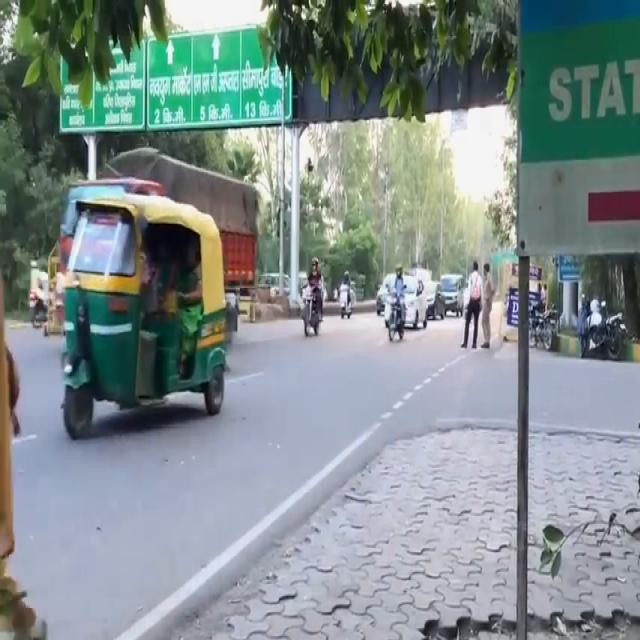MOTORCYCLE: (300, 282, 323, 337), (341, 283, 353, 322)
